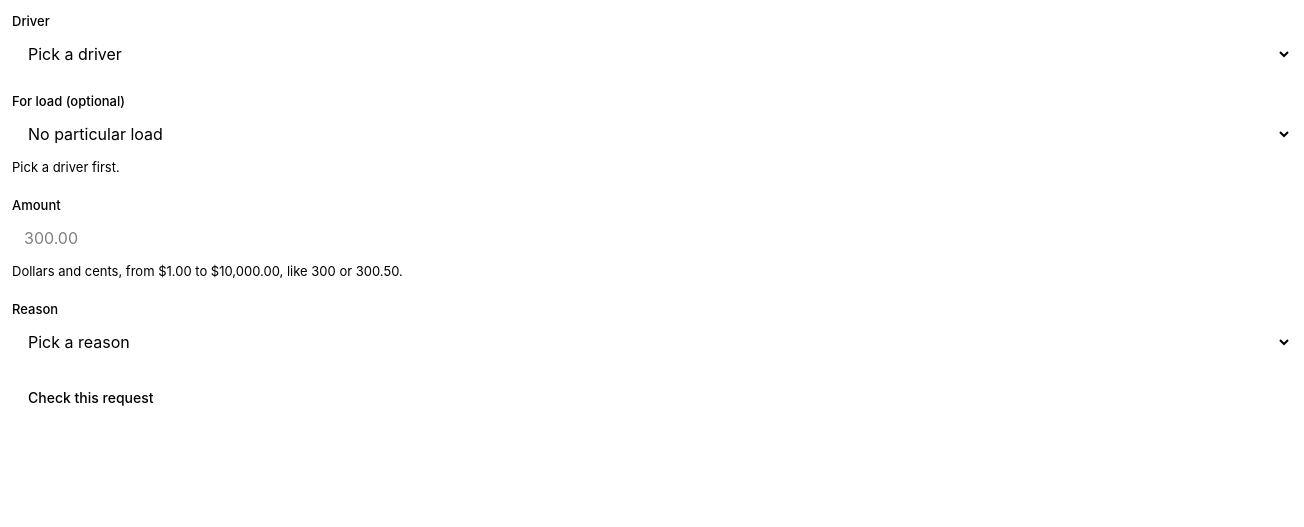
Test: sending an advance request › stays on the form and says where to look when the turn is failed, and shows no toast
Select "BR-D01, Ann Example" in the dropdown labelled "Driver" at (652, 54), box [12,36,1292,72]
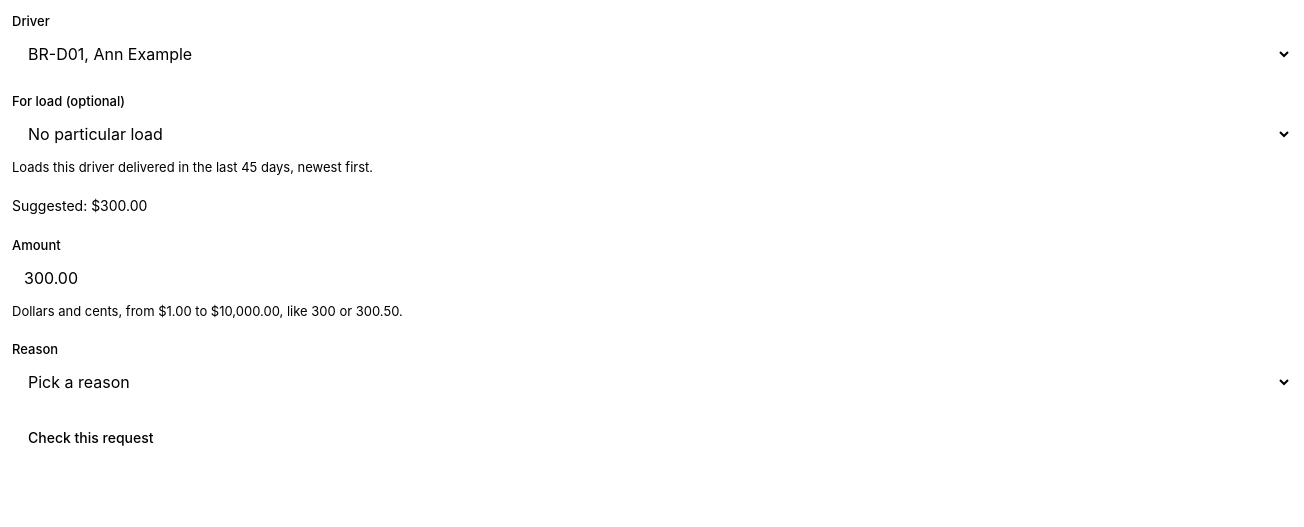
Result: the field labelled "Amount" holds "300.00" at [12,260,1292,296]
Select "Fuel" in the dropdown labelled "Reason" at (652, 382), box [12,364,1292,400]
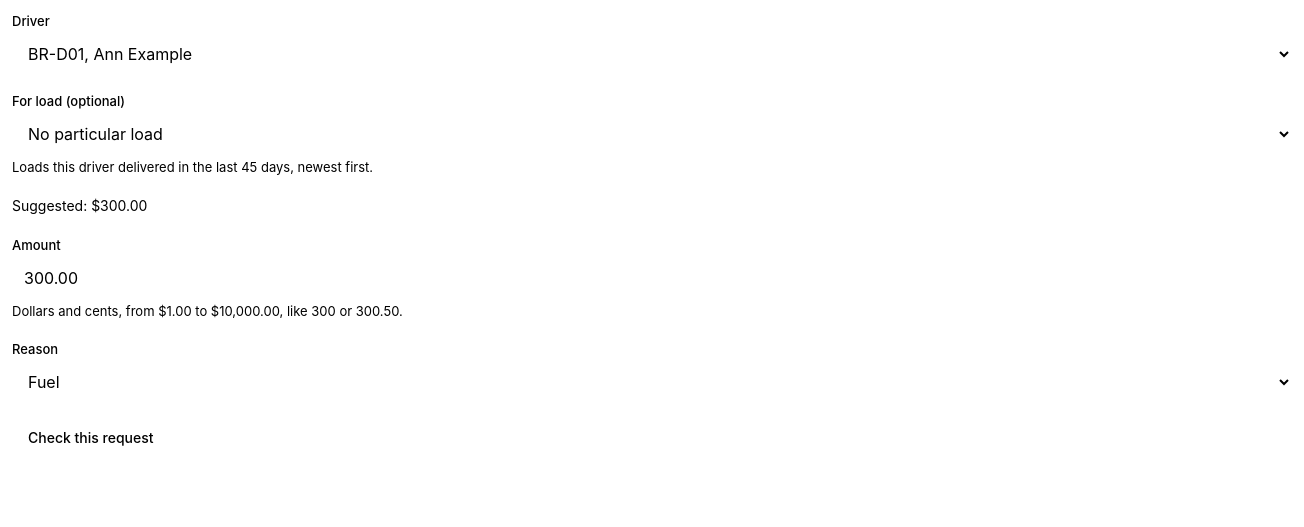
Click the button "Check this request".
click(91, 438)  # box [12,420,170,456]
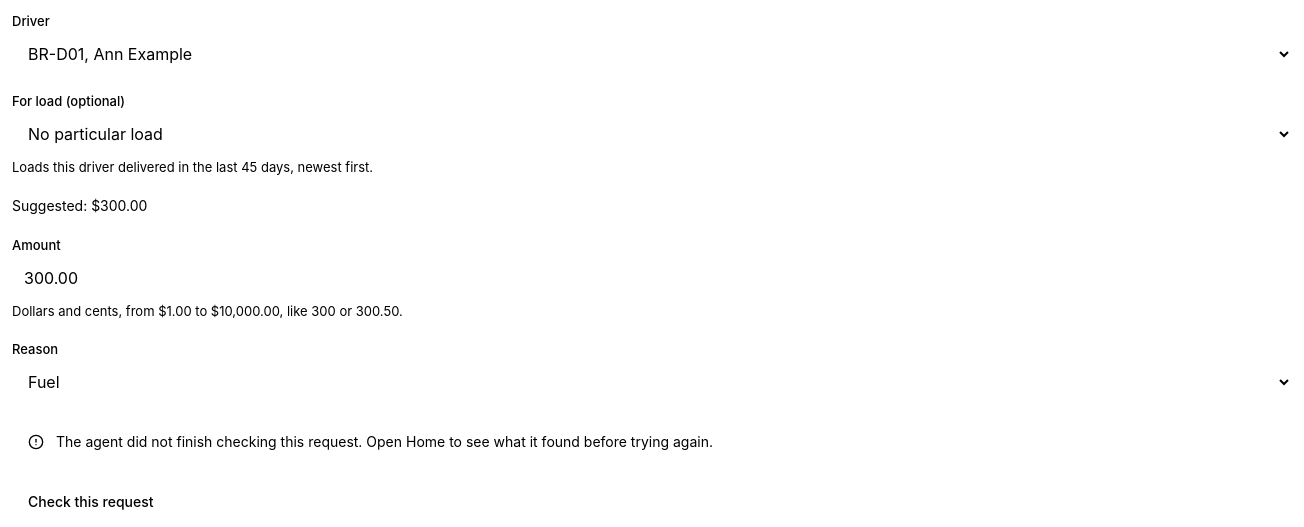
Result: the text "The agent did not finish checking this request. Open Home to see what it found before trying again." is shown at [56,433,713,450]
